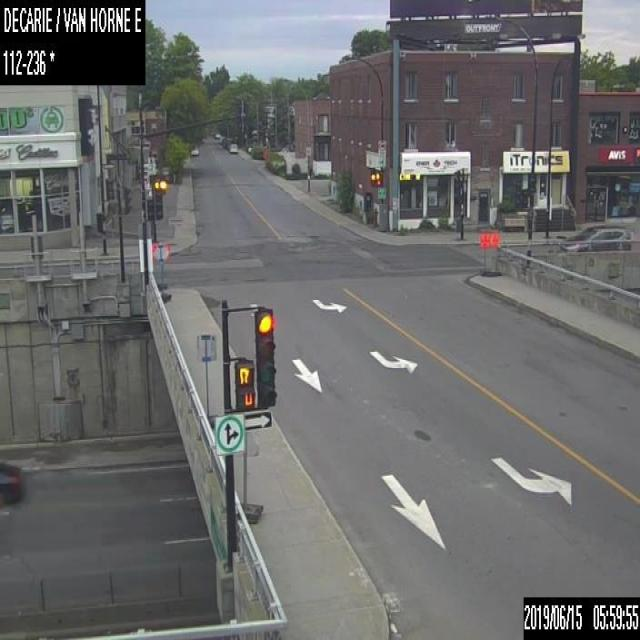construction: (234, 426, 263, 520), (196, 332, 218, 427), (152, 238, 172, 302), (488, 231, 501, 274), (477, 232, 488, 276)
vehicle: (560, 221, 631, 251), (0, 460, 24, 503), (228, 141, 237, 153), (189, 145, 198, 155)
